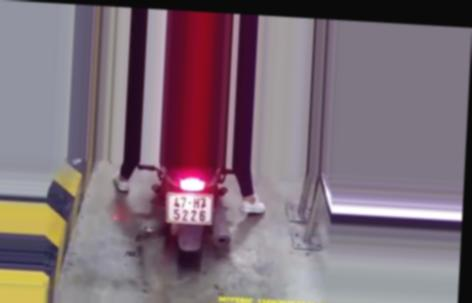License_Plate: (162, 192, 219, 227)
